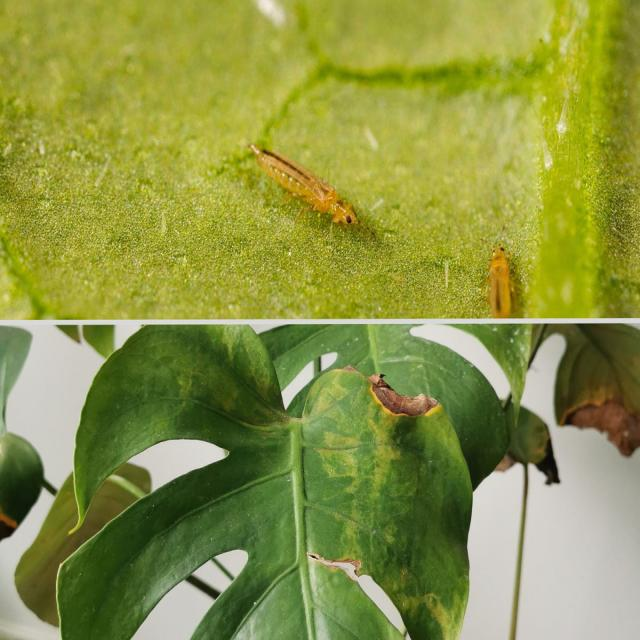Thrip-Adult-: (242, 130, 373, 241)
